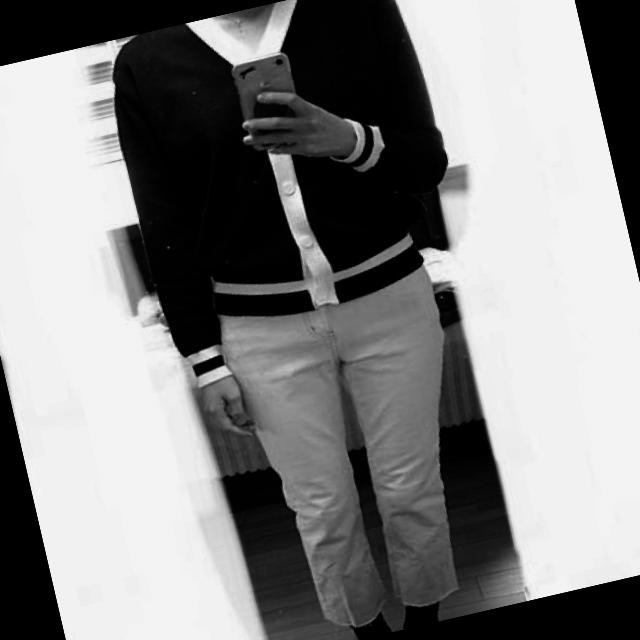cardigan: (96, 0, 486, 394)
cottonpants: (212, 264, 506, 640)
